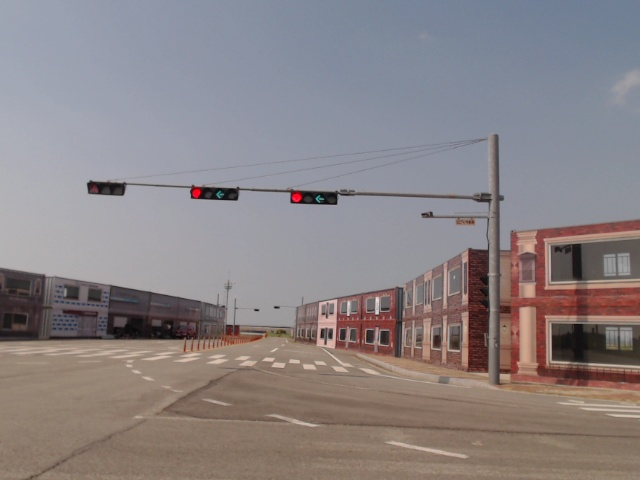left_green_4: (290, 191, 337, 205), (191, 187, 237, 200)
